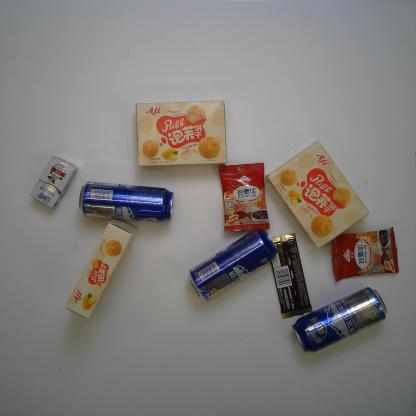Alcohol: (185, 227, 280, 304), (289, 285, 389, 355), (76, 179, 174, 224)
Chocolate: (264, 233, 314, 320)
Dessert: (264, 140, 370, 250), (63, 217, 138, 321), (133, 97, 228, 171)
Instant Drink: (330, 225, 400, 283), (218, 162, 270, 233)
Milk: (28, 154, 77, 210)
